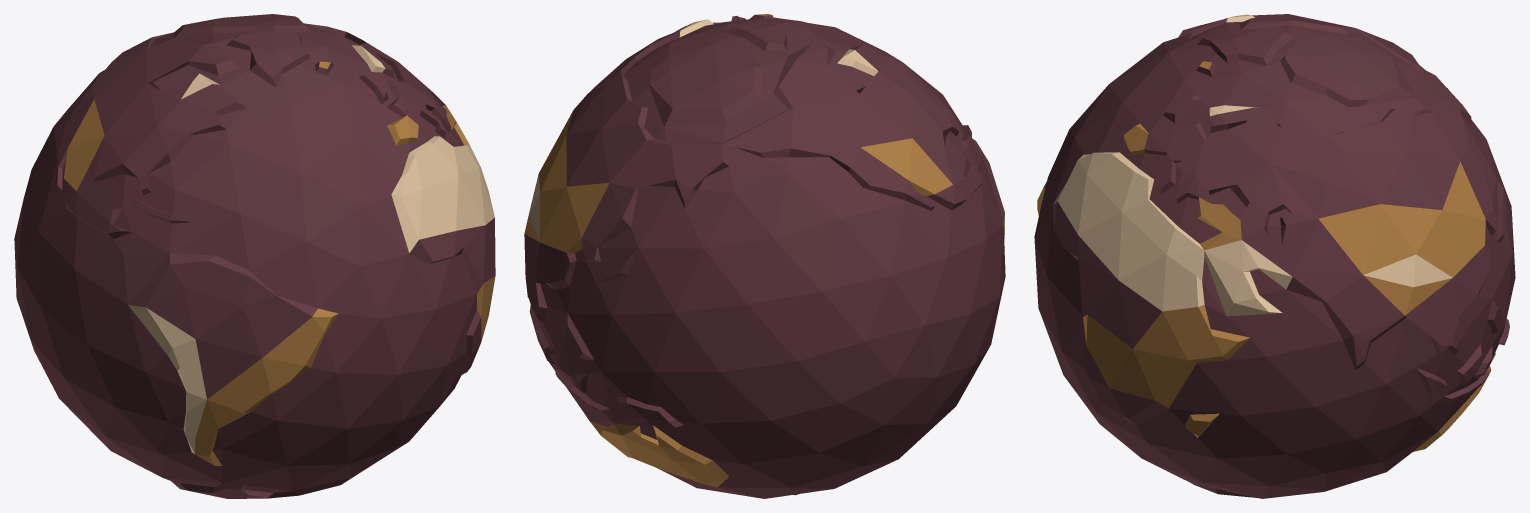
File: SM_Planet_Earth.fbx
3 renders of one model, left to right at view 1: azimuth 30°, elevation 25°; view 2: azimuth 150°, elevation 25°; view 3: azimuth 270°, elevation 25°, orthographic.
Visible parts, largest first — view 1: SM_Planet_Earth; view 2: SM_Planet_Earth; view 3: SM_Planet_Earth.
Part boxes in pixels (left/top/right/bottom): SM_Planet_Earth: left=14, top=14, right=495, bottom=498; SM_Planet_Earth: left=524, top=14, right=1005, bottom=498; SM_Planet_Earth: left=1034, top=14, right=1515, bottom=498.
Bounding box in the file's own units: 9.99 × 10.01 × 9.93.
